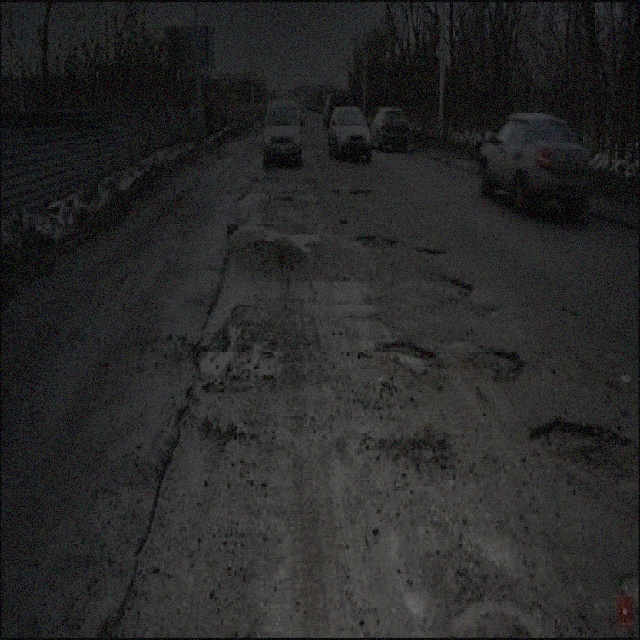pothole: (528, 414, 638, 469), (397, 428, 451, 474), (380, 333, 437, 373), (482, 339, 526, 386), (352, 226, 397, 254), (446, 269, 472, 296), (413, 241, 446, 256)
